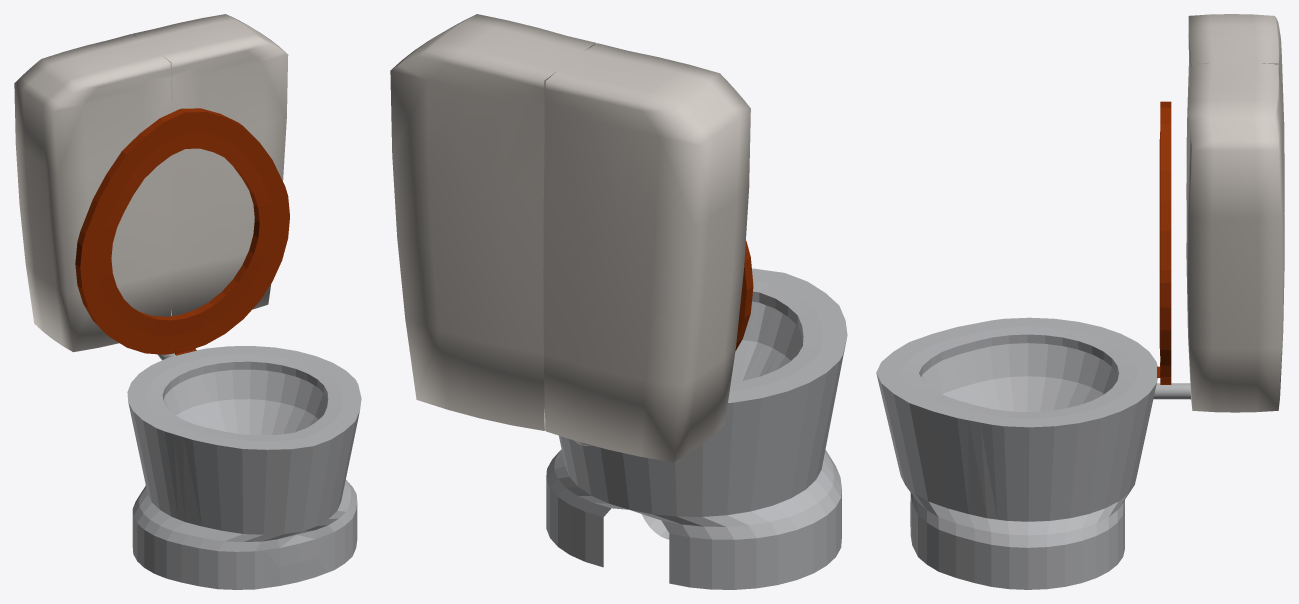
Rendered from klo.dae.
3 views of the same model, side by side, from view 1: azimuth 30°, elevation 25°; view 2: azimuth 150°, elevation 25°; view 3: azimuth 270°, elevation 25° (orthographic). The views are drawn at different scales.
Parts seen in each view (by area): view 1: Circle_001, Circle, Circle_002; view 2: Circle_001, Circle, Circle_002; view 3: Circle, Circle_001, Circle_002.
Part boxes in pixels (x1=…): Circle_001: x1=14, y1=14, x2=288, y2=352; Circle: x1=127, y1=346, x2=361, y2=589; Circle_002: x1=75, y1=108, x2=289, y2=355; Circle_001: x1=390, y1=14, x2=750, y2=462; Circle: x1=546, y1=268, x2=847, y2=589; Circle_002: x1=735, y1=241, x2=753, y2=350; Circle: x1=876, y1=317, x2=1190, y2=589; Circle_001: x1=1186, y1=14, x2=1284, y2=412; Circle_002: x1=1157, y1=101, x2=1171, y2=384.
Bounding box in the file's own units: 2.34 × 3.15 × 4.03.
